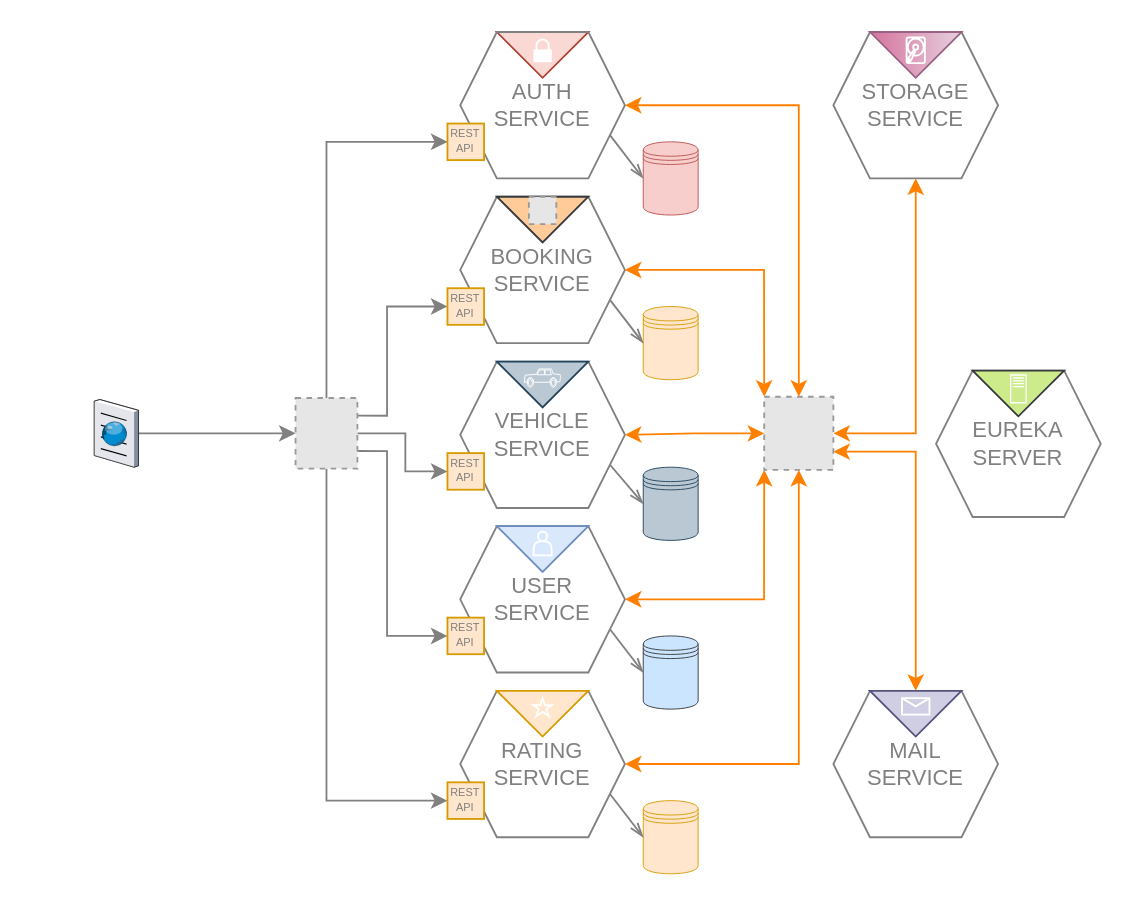
Some shapes in this 1133 by 906 pixel diagram are drawn without their labels. Grey dashed boxes stand in for pictures. The centre of each missing label's shape, as x and y in pixels:
"AUTH SERVICE DB" belongs at pixel 670 178.
"BOOKING SERVICE DB" belongs at pixel 670 342.
"FRONTEND APP" belongs at pixel 115 432.
"RATING SERVICE DB" belongs at pixel 670 836.
"USER SERVICE DB" belongs at pixel 670 672.
"VEHICLE SERVICE DB" belongs at pixel 670 503.
